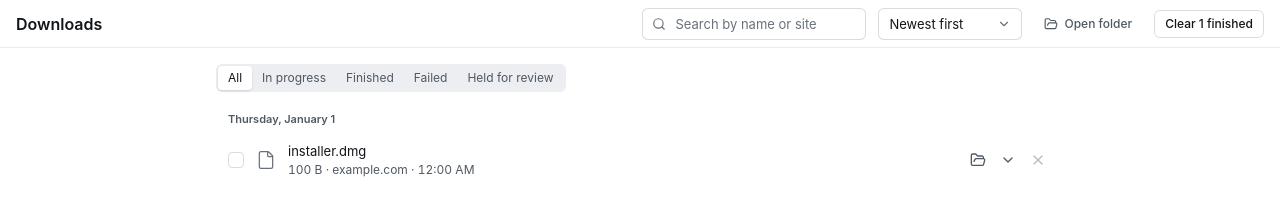
Test: what a download tells you about itself › reads as routine when the redirect stayed on one site
The width and height of the screenshot is (1280, 218).
Check: the text "Redirected within" is not shown
Step 1. Click the button named "Show details" → (1008, 160), box [994,146,1022,174]
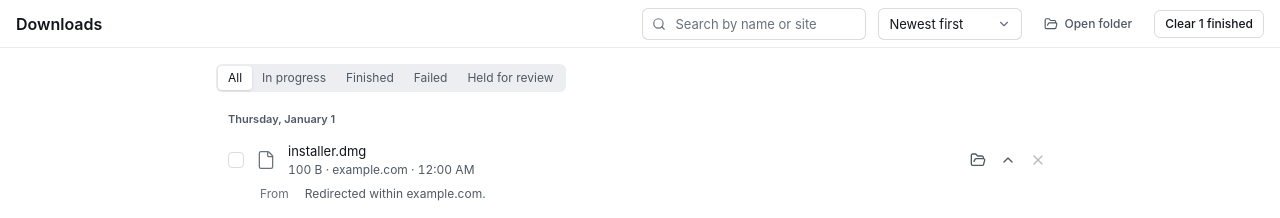
Check: the text "Redirected within example.com" is shown, box [305,186,486,201]
